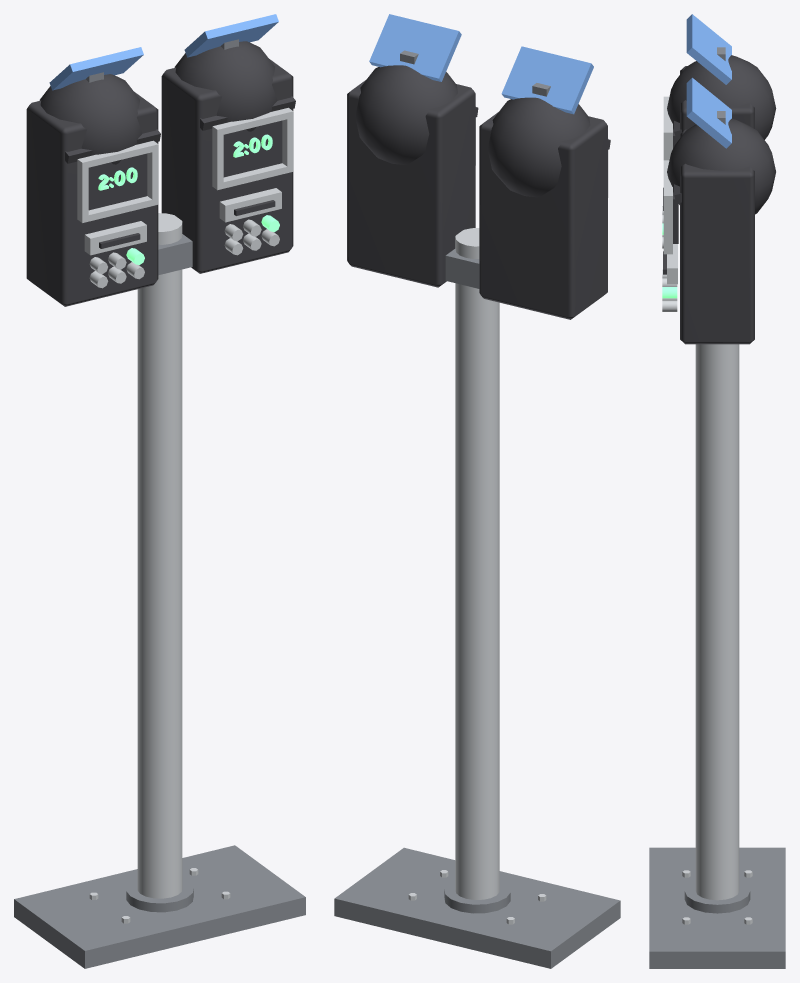
The model's file is ParkingMeter_Twin.fbx.
3 views of the same model, side by side, from view 1: azimuth 30°, elevation 25°; view 2: azimuth 150°, elevation 25°; view 3: azimuth 270°, elevation 25° (orthographic). The views are drawn at different scales.
Visible parts, largest first — view 1: LOD0; view 2: LOD0; view 3: LOD0.
Part boxes in pixels (left/top/right/bottom): LOD0: left=14, top=14, right=305, bottom=968; LOD0: left=334, top=14, right=620, bottom=968; LOD0: left=649, top=14, right=785, bottom=968.
Size of what is drawn, in the model's own units: 38 by 138 by 20.
